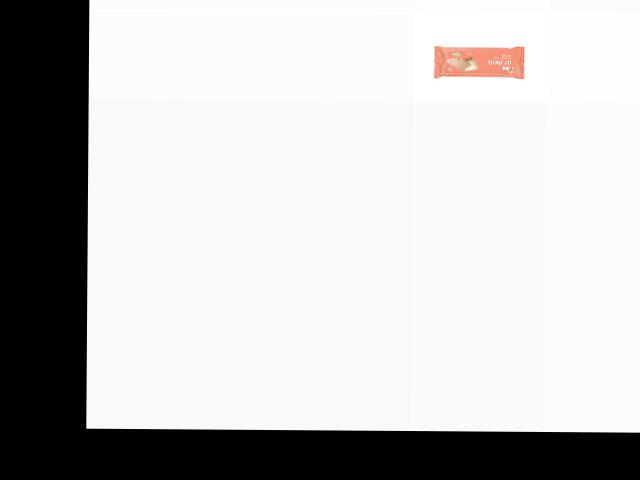chocolate: (434, 45, 528, 78)
